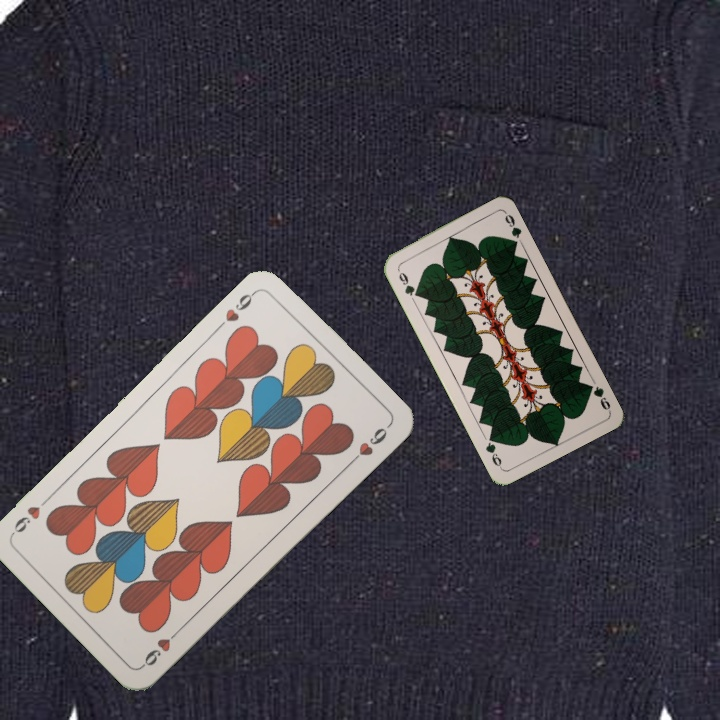G9: (582, 380, 613, 414), (394, 265, 422, 300)
H9: (137, 624, 184, 669), (221, 286, 260, 325)
